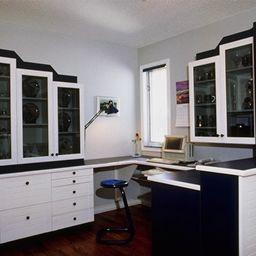Armario: (2, 60, 93, 233)
